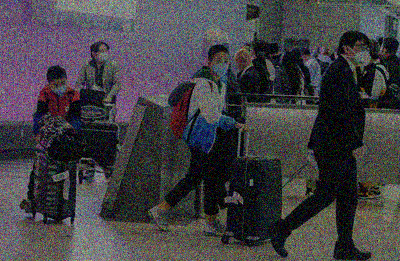with_mask: (354, 42, 372, 67), (212, 56, 230, 77), (50, 81, 68, 99), (96, 47, 109, 63)
